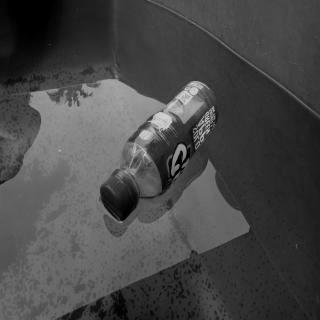bottle: (99, 78, 219, 223)
